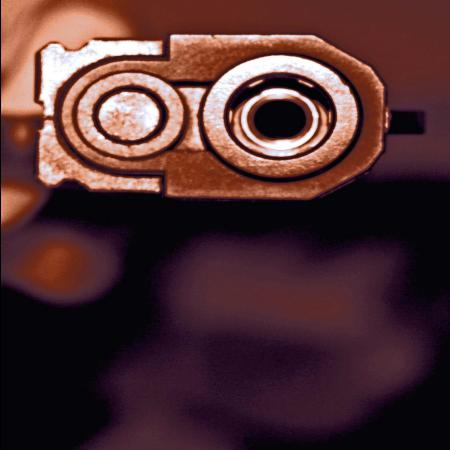Pistol: (35, 33, 392, 202)
